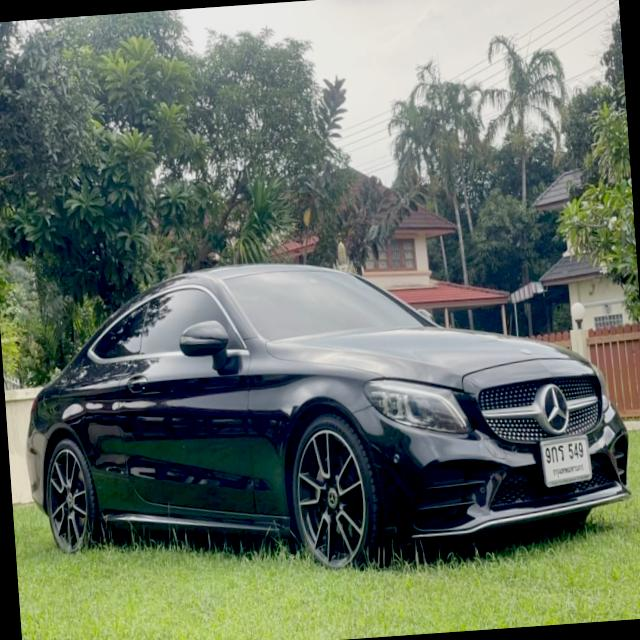license_plate: (538, 432, 595, 486)
